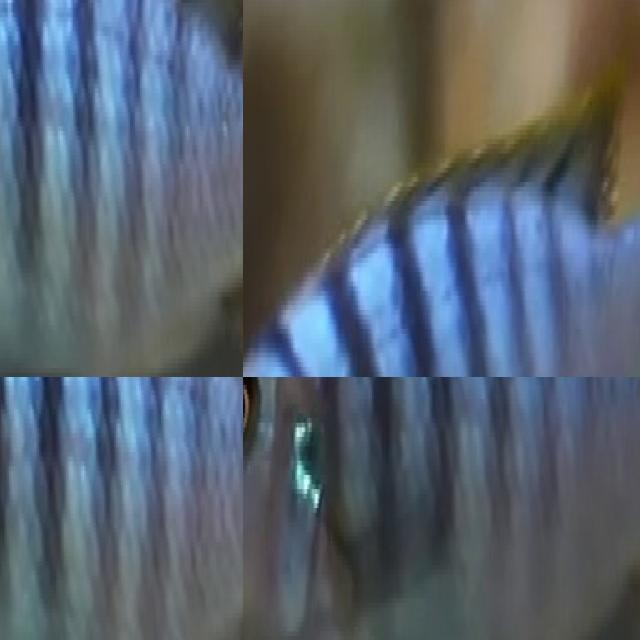fish: (243, 377, 640, 640), (0, 0, 243, 377), (0, 377, 243, 640)
